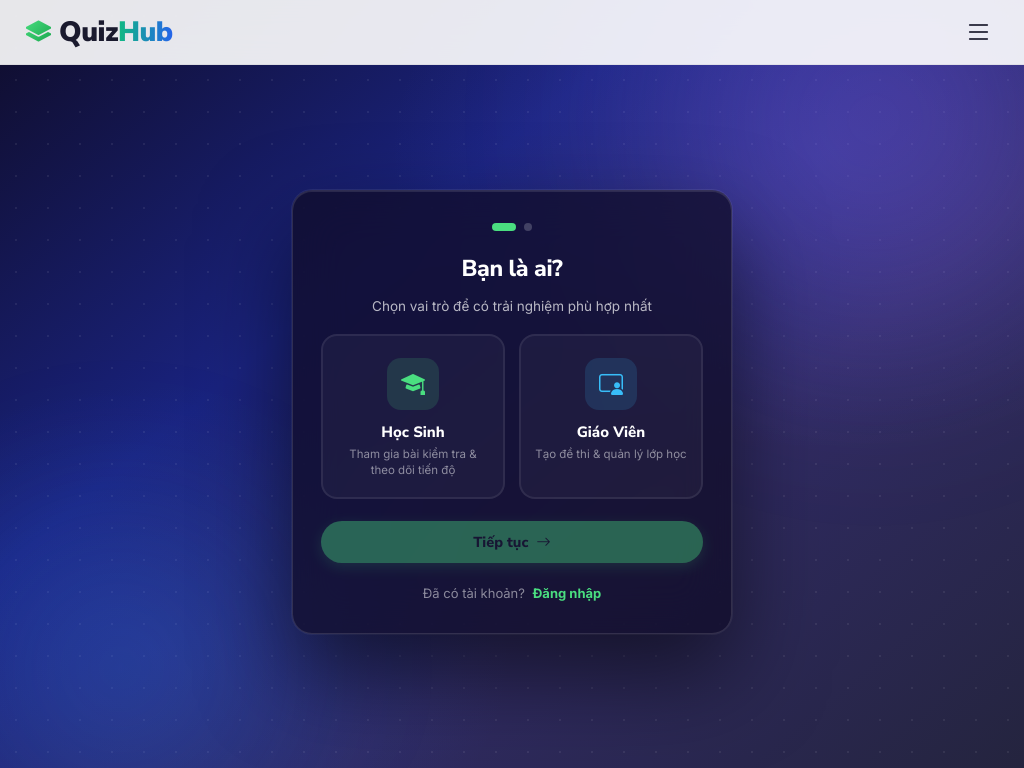
Test: RegisterPage Component - V1 2-Step Parity and Auth Behavior › 6. navigates back from Step 2 to Step 1 using role-back-badge
Click the radio button labelled "Học Sinh Tham gia bài kiểm tra & theo dõi tiến độ": (413, 416) [321, 334, 505, 499]
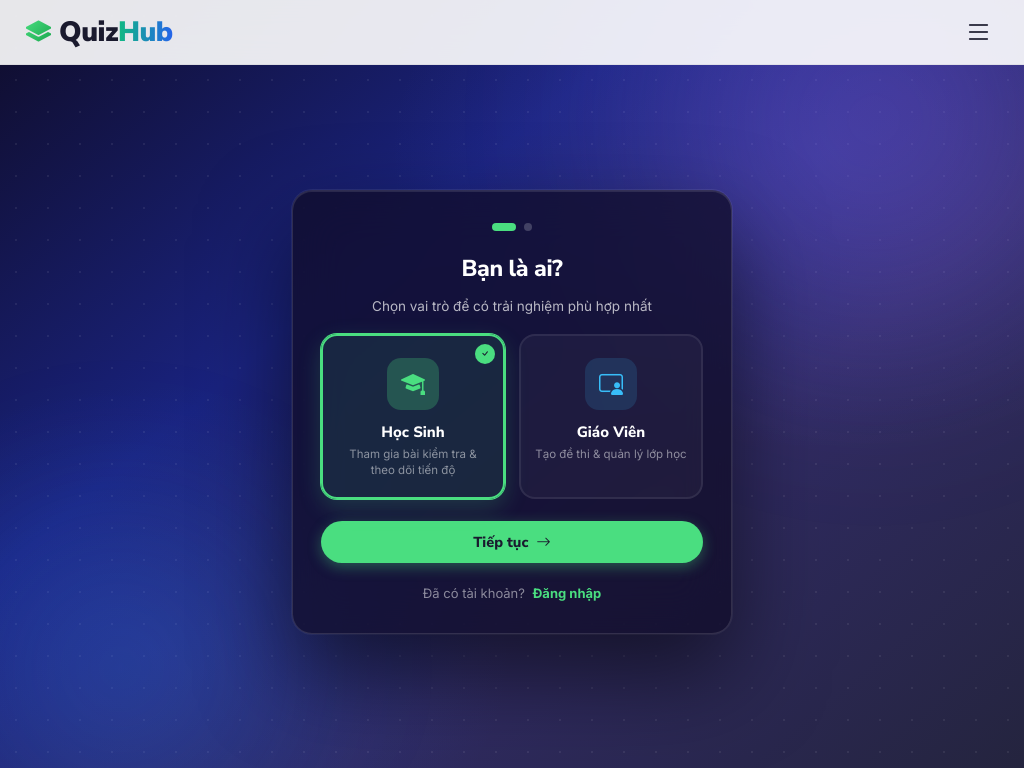
Click the button "Tiếp tục": (512, 542) [321, 521, 703, 563]
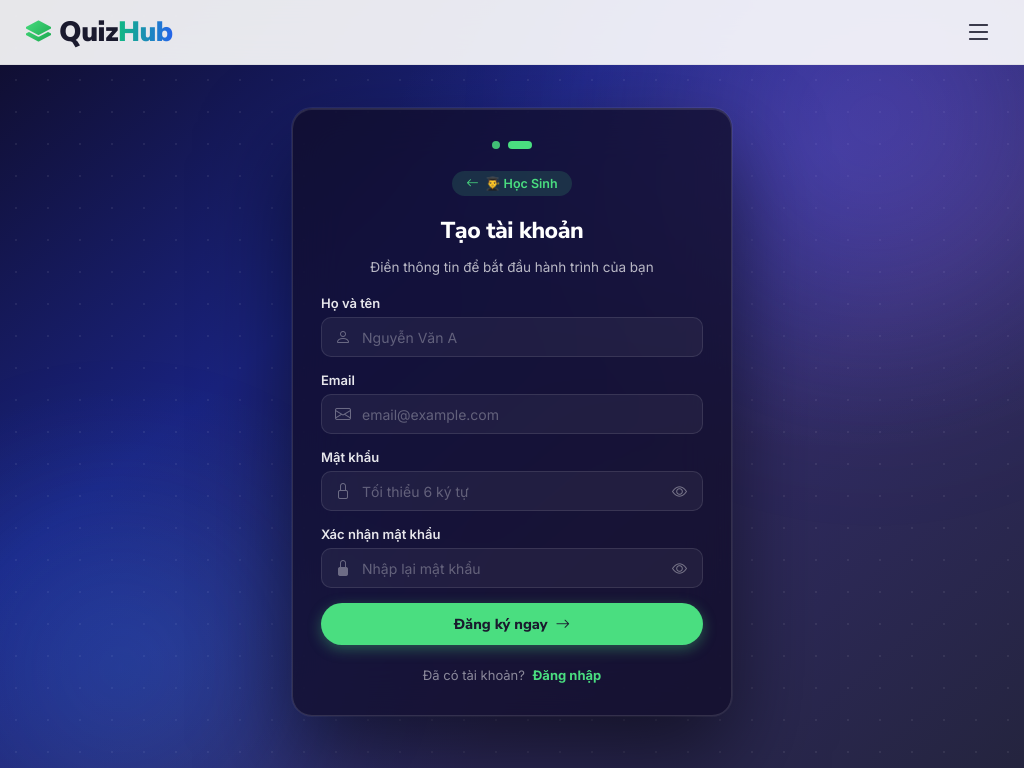
Result: the heading "Tạo tài khoản" is shown at [441, 215, 583, 246]
Click back badge
Click the button with aria-label "Đổi vai trò, quay lại bước 1": (512, 183) [452, 171, 572, 196]
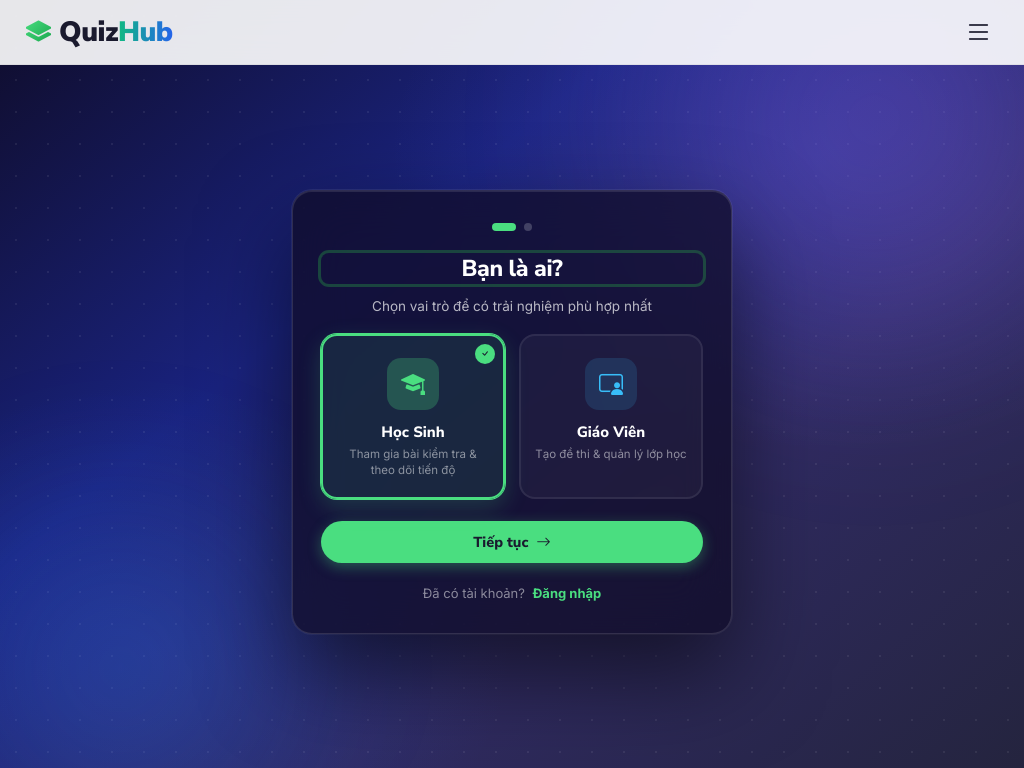
Result: the heading "Bạn là ai?" is shown at [321, 253, 703, 284]
